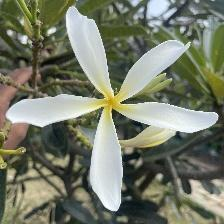champaka: (7, 6, 219, 216)
